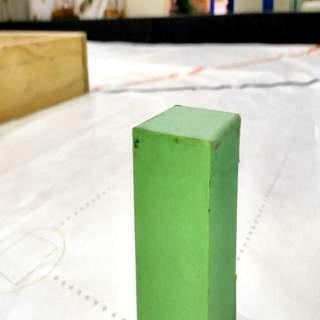greenbox: (130, 103, 242, 320)
